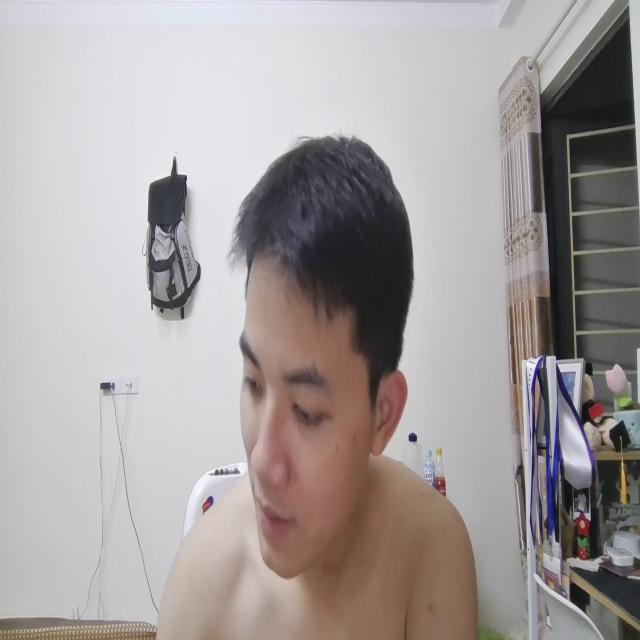student: (169, 126, 477, 640)
